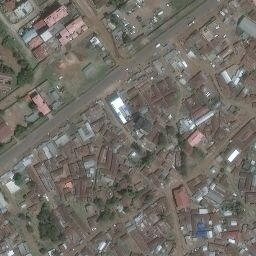tree: (17, 68, 33, 83), (13, 125, 26, 135), (13, 173, 23, 185), (93, 198, 103, 207), (141, 157, 149, 165), (26, 225, 33, 233), (28, 102, 36, 109), (18, 213, 25, 220), (40, 248, 46, 254), (26, 216, 31, 221), (23, 194, 27, 199)
